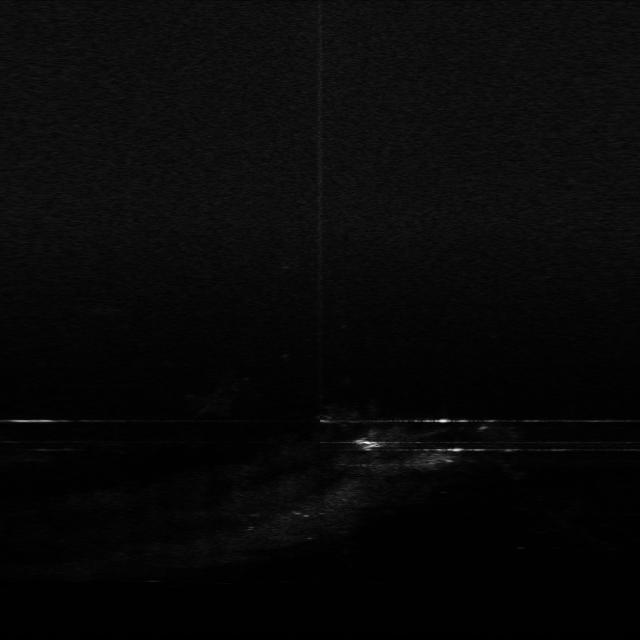rov: (352, 435, 384, 452)
